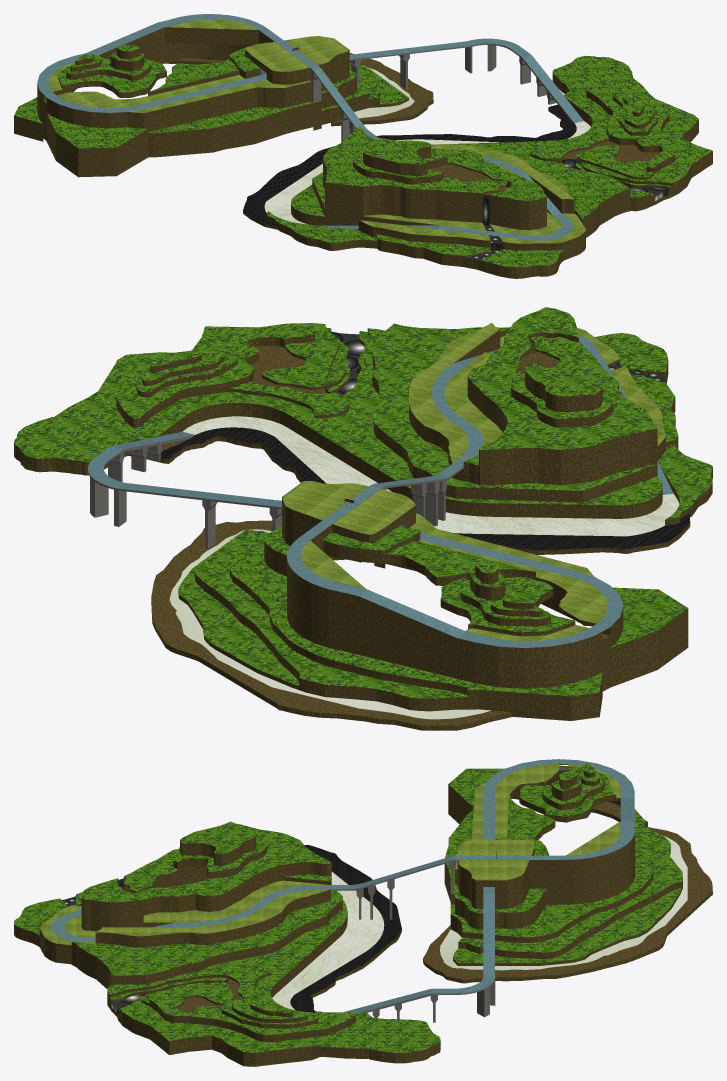
The picture shows the model from 3 angles, top to bottom: view 1: azimuth 30°, elevation 25°; view 2: azimuth 150°, elevation 25°; view 3: azimuth 270°, elevation 25°; orthographic projection. The views are drawn at different scales.
Parts seen in each view (by area): view 1: Ocean_Islands_v1_0_by_Yoshi_Productions___Chrisdark64_SKP__P (×2), Ocean_Islands_v1_0_by_Yoshi_Productions___Chrisdark64_SKP__. (×2), Ocean_Islands_v1_0_by_Yoshi_Productions___Chrisdark64_SKP__R, Ocean_Islands_v1_0_by_Yoshi_Productions___Chrisdark64_SKP__M, Ocean_Islands_v1_0_by_Yoshi_Productions___Chrisdark64_SKP__S, Ocean_Islands_v1_0_by_Yoshi_Productions___Chrisdark64_SKP__C; view 2: Ocean_Islands_v1_0_by_Yoshi_Productions___Chrisdark64_SKP__P (×2), Ocean_Islands_v1_0_by_Yoshi_Productions___Chrisdark64_SKP__. (×2), Ocean_Islands_v1_0_by_Yoshi_Productions___Chrisdark64_SKP__R, Ocean_Islands_v1_0_by_Yoshi_Productions___Chrisdark64_SKP__S, Ocean_Islands_v1_0_by_Yoshi_Productions___Chrisdark64_SKP__M, Ocean_Islands_v1_0_by_Yoshi_Productions___Chrisdark64_SKP__C; view 3: Ocean_Islands_v1_0_by_Yoshi_Productions___Chrisdark64_SKP__P (×2), Ocean_Islands_v1_0_by_Yoshi_Productions___Chrisdark64_SKP__. (×2), Ocean_Islands_v1_0_by_Yoshi_Productions___Chrisdark64_SKP__R, Ocean_Islands_v1_0_by_Yoshi_Productions___Chrisdark64_SKP__S, Ocean_Islands_v1_0_by_Yoshi_Productions___Chrisdark64_SKP__M.
Part boxes in pixels (<box>): Ocean_Islands_v1_0_by_Yoshi_Productions___Chrisdark64_SKP__P (×2): <box>14,19,712,278</box>; Ocean_Islands_v1_0_by_Yoshi_Productions___Chrisdark64_SKP__. (×2): <box>14,42,712,267</box>; Ocean_Islands_v1_0_by_Yoshi_Productions___Chrisdark64_SKP__R: <box>37,14,583,240</box>; Ocean_Islands_v1_0_by_Yoshi_Productions___Chrisdark64_SKP__M: <box>261,43,573,142</box>; Ocean_Islands_v1_0_by_Yoshi_Productions___Chrisdark64_SKP__S: <box>264,65,590,224</box>; Ocean_Islands_v1_0_by_Yoshi_Productions___Chrisdark64_SKP__C: <box>466,159,669,261</box>; Ocean_Islands_v1_0_by_Yoshi_Productions___Chrisdark64_SKP__P (×2): <box>14,323,712,730</box>; Ocean_Islands_v1_0_by_Yoshi_Productions___Chrisdark64_SKP__. (×2): <box>14,307,712,698</box>; Ocean_Islands_v1_0_by_Yoshi_Productions___Chrisdark64_SKP__R: <box>88,336,673,647</box>; Ocean_Islands_v1_0_by_Yoshi_Productions___Chrisdark64_SKP__S: <box>169,416,679,719</box>; Ocean_Islands_v1_0_by_Yoshi_Productions___Chrisdark64_SKP__M: <box>88,435,463,548</box>; Ocean_Islands_v1_0_by_Yoshi_Productions___Chrisdark64_SKP__C: <box>326,331,665,395</box>; Ocean_Islands_v1_0_by_Yoshi_Productions___Chrisdark64_SKP__P (×2): <box>14,764,712,1066</box>; Ocean_Islands_v1_0_by_Yoshi_Productions___Chrisdark64_SKP__. (×2): <box>14,762,682,1052</box>; Ocean_Islands_v1_0_by_Yoshi_Productions___Chrisdark64_SKP__R: <box>51,759,634,1012</box>; Ocean_Islands_v1_0_by_Yoshi_Productions___Chrisdark64_SKP__S: <box>272,835,687,1010</box>; Ocean_Islands_v1_0_by_Yoshi_Productions___Chrisdark64_SKP__M: <box>331,766,568,1022</box>.
Size of what is drawn, in the model's own units: 197506 by 26870 by 220493.
Materials: 12 (11 with a texture image).
